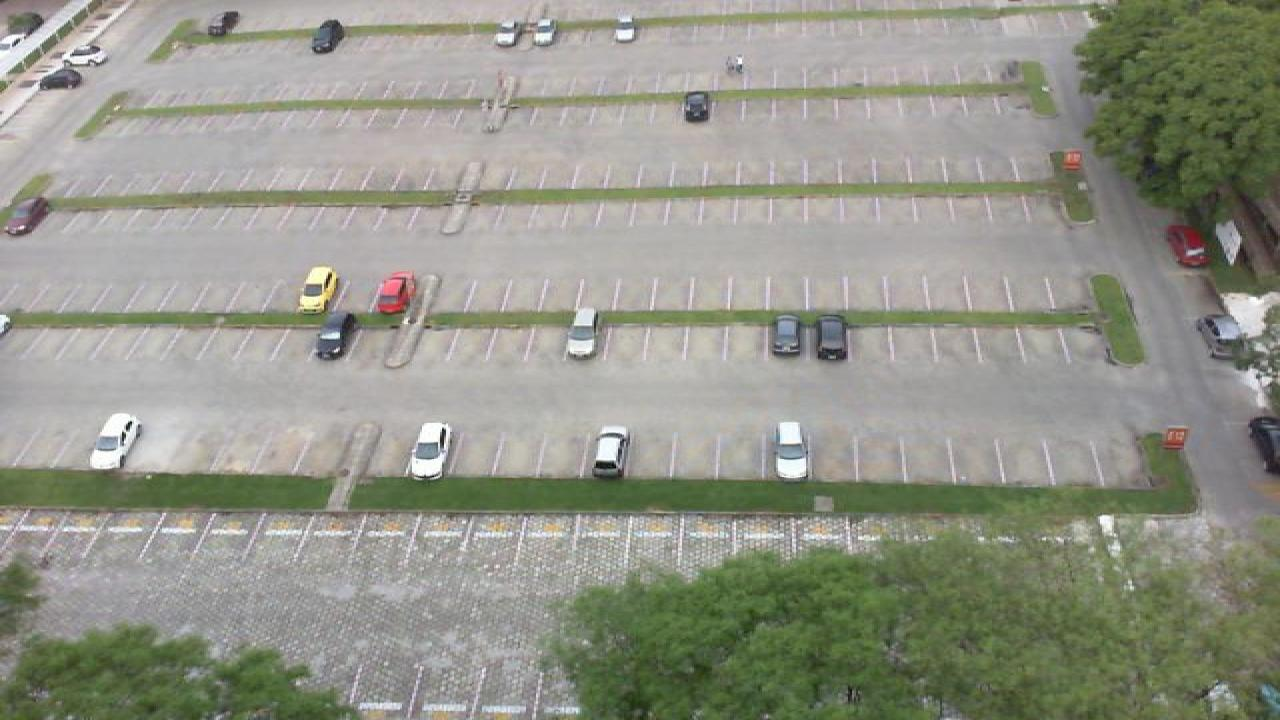Car: (90, 412, 140, 471), (408, 422, 452, 480), (1198, 314, 1250, 362), (768, 421, 810, 480), (310, 310, 358, 360), (588, 425, 630, 478), (1166, 224, 1210, 269), (4, 195, 52, 236), (298, 265, 338, 314), (374, 271, 418, 315), (1248, 414, 1280, 472), (564, 307, 598, 359), (814, 315, 850, 361), (768, 315, 804, 358), (310, 18, 346, 54), (38, 66, 84, 92), (682, 90, 712, 123), (62, 45, 106, 65), (208, 10, 240, 37), (494, 18, 522, 46), (532, 16, 558, 46), (612, 14, 638, 42)
